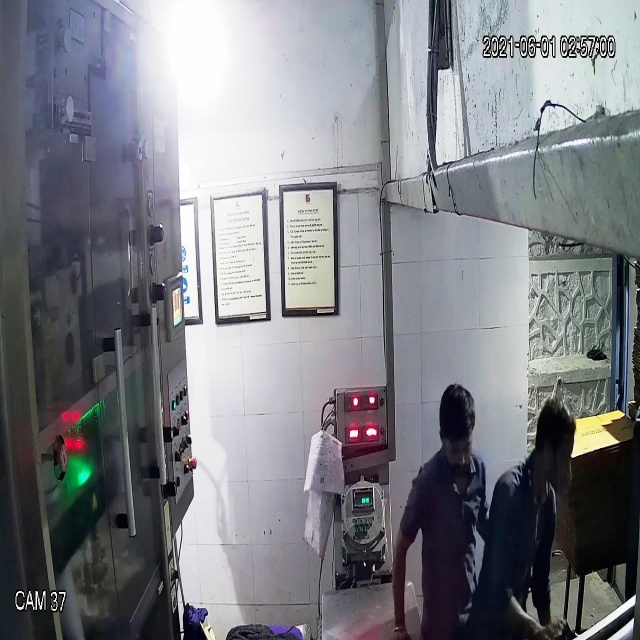Sin_gafas: (441, 431, 475, 461)
